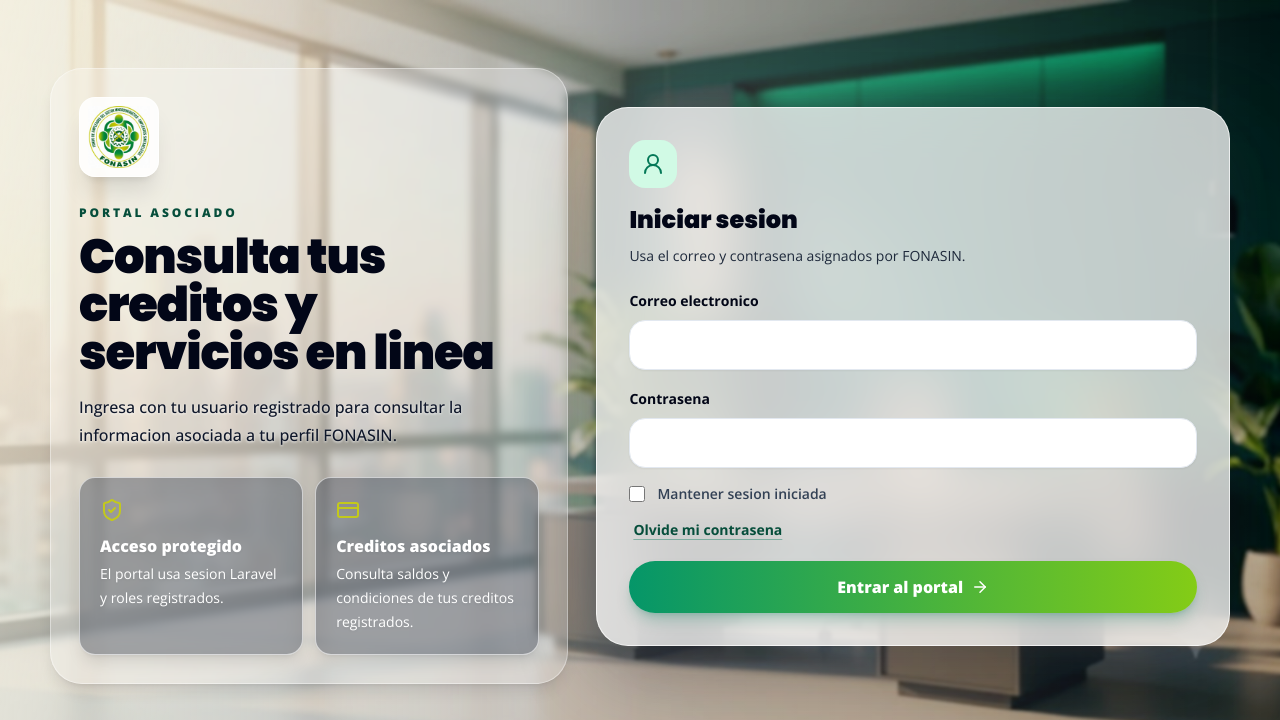
AppRoutes › rejects admin users from the associate portal
expect the heading "Iniciar sesion" is shown: met, box [629, 202, 798, 236]
Type "admin@fonasin.test" into the field labelled "Correo electronico" at (913, 344), box [629, 320, 1197, 370]
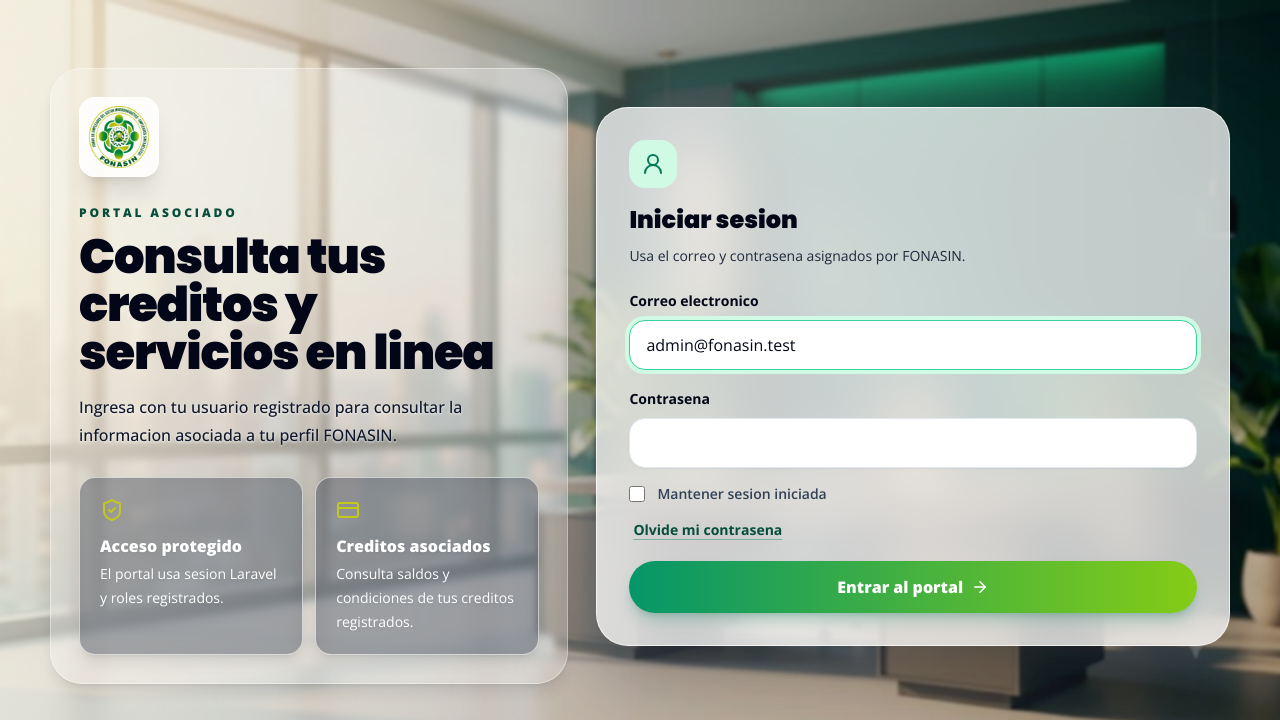
Type "Admin12345" into the password field labelled "Contrasena" at (913, 442), box [629, 418, 1197, 468]
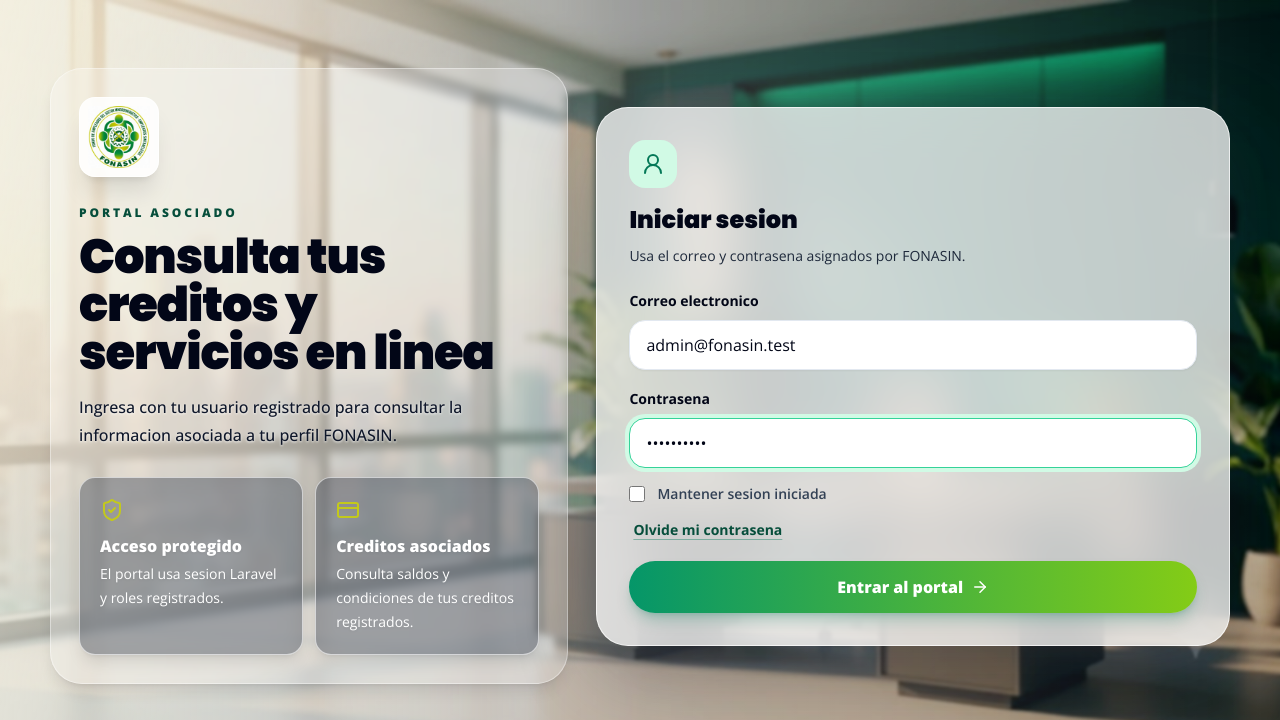
Click the button "Entrar al portal" at (913, 586), box [629, 560, 1197, 612]
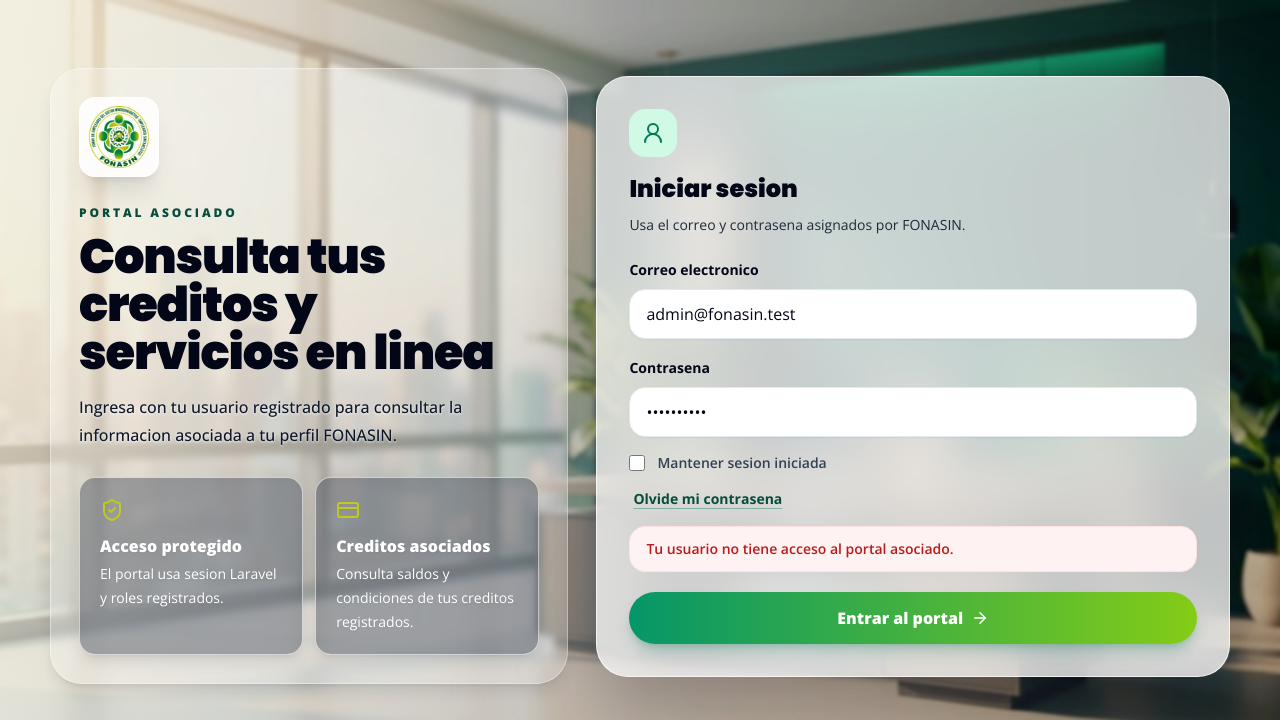
expect the text "Tu usuario no tiene acceso al portal asociado." is shown: met, box [629, 526, 1197, 572]
